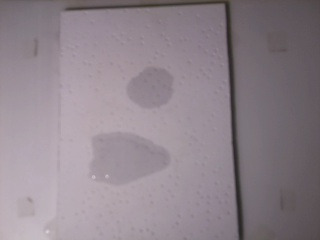Water_detected: (101, 143, 162, 190), (129, 71, 166, 104)
